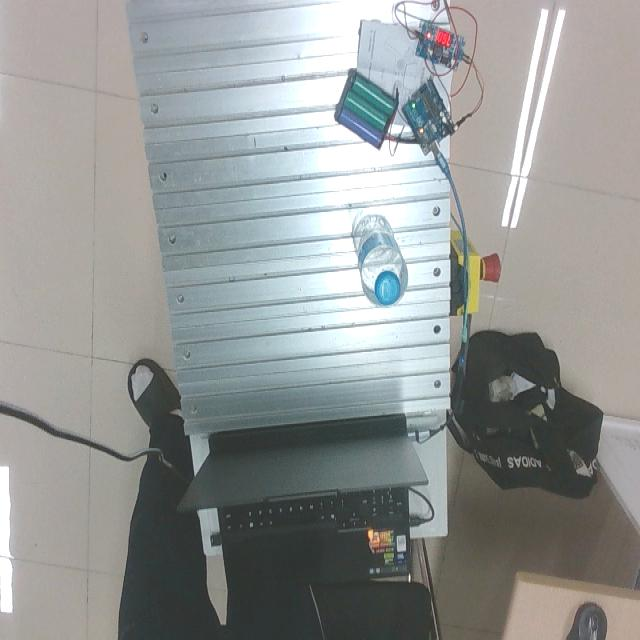lavie: (350, 212, 408, 308)
